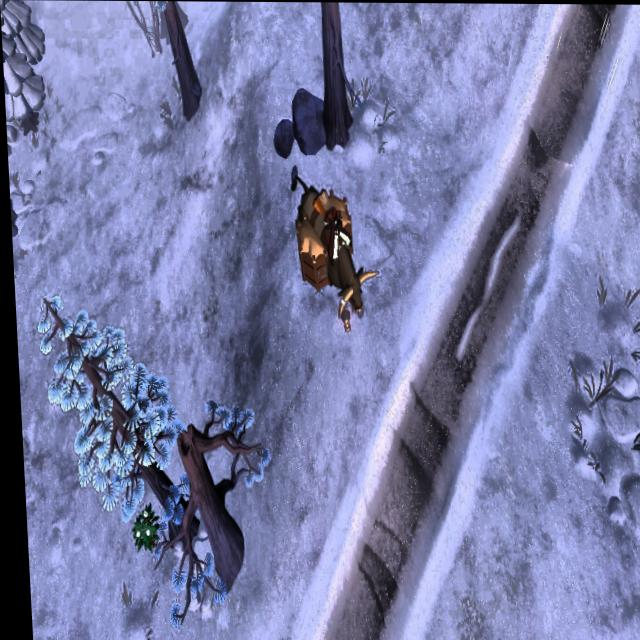fiber_t3: (124, 498, 156, 551)
